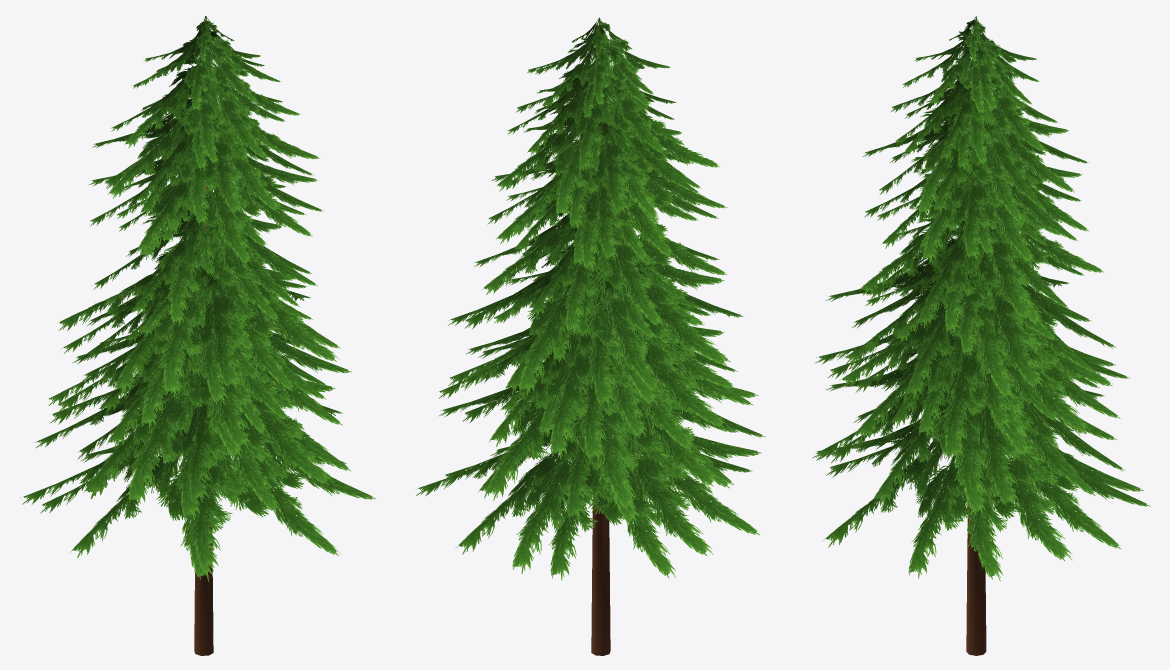
Rendered from Pine_Stylized_08_Tree.glb.
3 renders of one model, left to right at view 1: azimuth 30°, elevation 25°; view 2: azimuth 150°, elevation 25°; view 3: azimuth 270°, elevation 25°, orthographic.
Parts seen in each view (by area): view 1: Cylinder.009_1, Cylinder.009_0; view 2: Cylinder.009_1, Cylinder.009_0; view 3: Cylinder.009_1, Cylinder.009_0.
Boxes of the visible parts, box(x1,y1,x2,y2) form: Cylinder.009_1: box(22, 16, 375, 581); Cylinder.009_0: box(194, 184, 213, 655); Cylinder.009_1: box(416, 17, 765, 580); Cylinder.009_0: box(591, 467, 610, 655); Cylinder.009_1: box(812, 16, 1150, 581); Cylinder.009_0: box(966, 463, 986, 655).
Size of the model in its own units: 4.12 by 8 by 4.06.
Materials: 2 (2 with a texture image).
